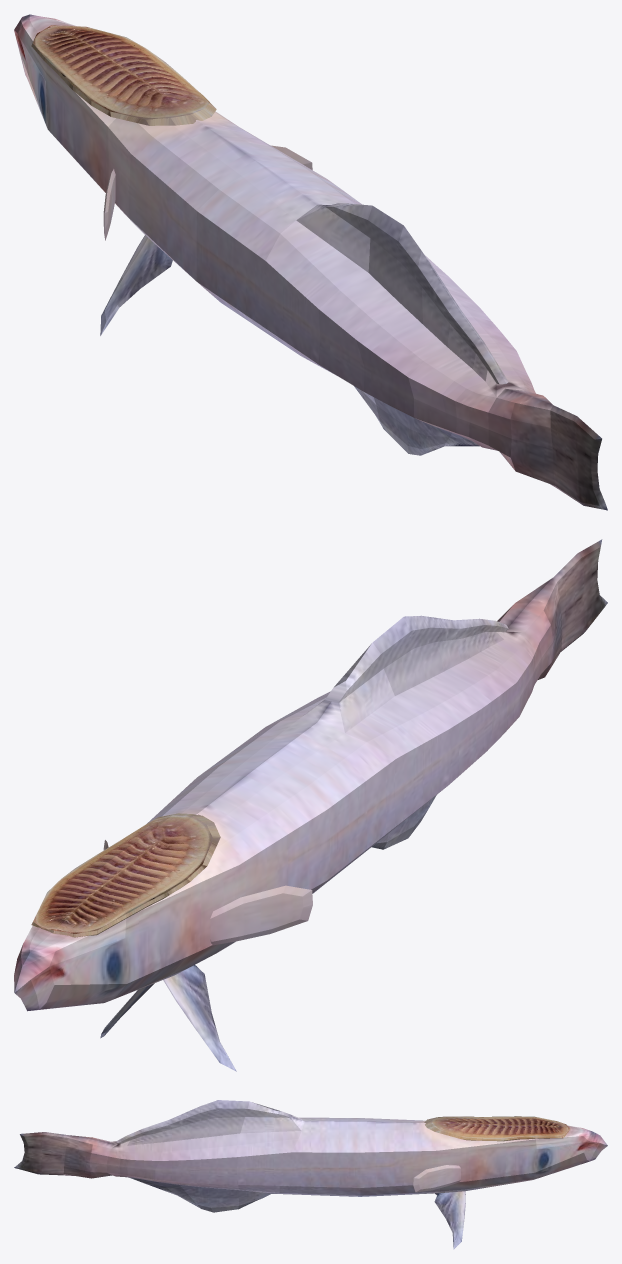
Rendered from remora-brachyptera.glb.
3 views of the same model, one above another, from view 1: azimuth 30°, elevation 25°; view 2: azimuth 150°, elevation 25°; view 3: azimuth 270°, elevation 25° (orthographic). The views are drawn at different scales.
Parts seen in each view (by area): view 1: remora brachyptera, pelvic.l; view 2: remora brachyptera, pectoral.l, pelvic.l; view 3: remora brachyptera, pelvic.r, pectoral.r.
Boxes of the visible parts, x1=… form: remora brachyptera: x1=14, y1=14, x2=607, y2=510; pelvic.l: x1=100, y1=235, x2=172, y2=335; remora brachyptera: x1=14, y1=539, x2=607, y2=1011; pectoral.l: x1=210, y1=885, x2=312, y2=945; pelvic.l: x1=163, y1=965, x2=236, y2=1071; remora brachyptera: x1=14, y1=1100, x2=607, y2=1212; pelvic.r: x1=434, y1=1191, x2=465, y2=1249; pectoral.r: x1=413, y1=1165, x2=460, y2=1192.
Size of the model in its own units: 0.7107 by 0.869 by 3.51.
Materials: 2 (2 with a texture image).
